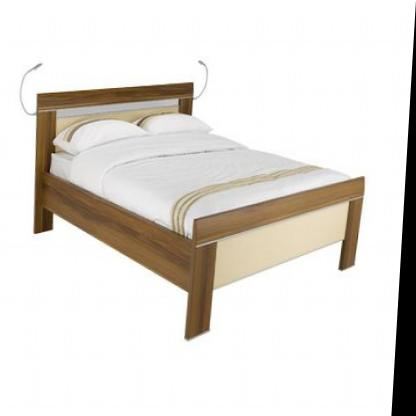Bed: (26, 84, 370, 342)
